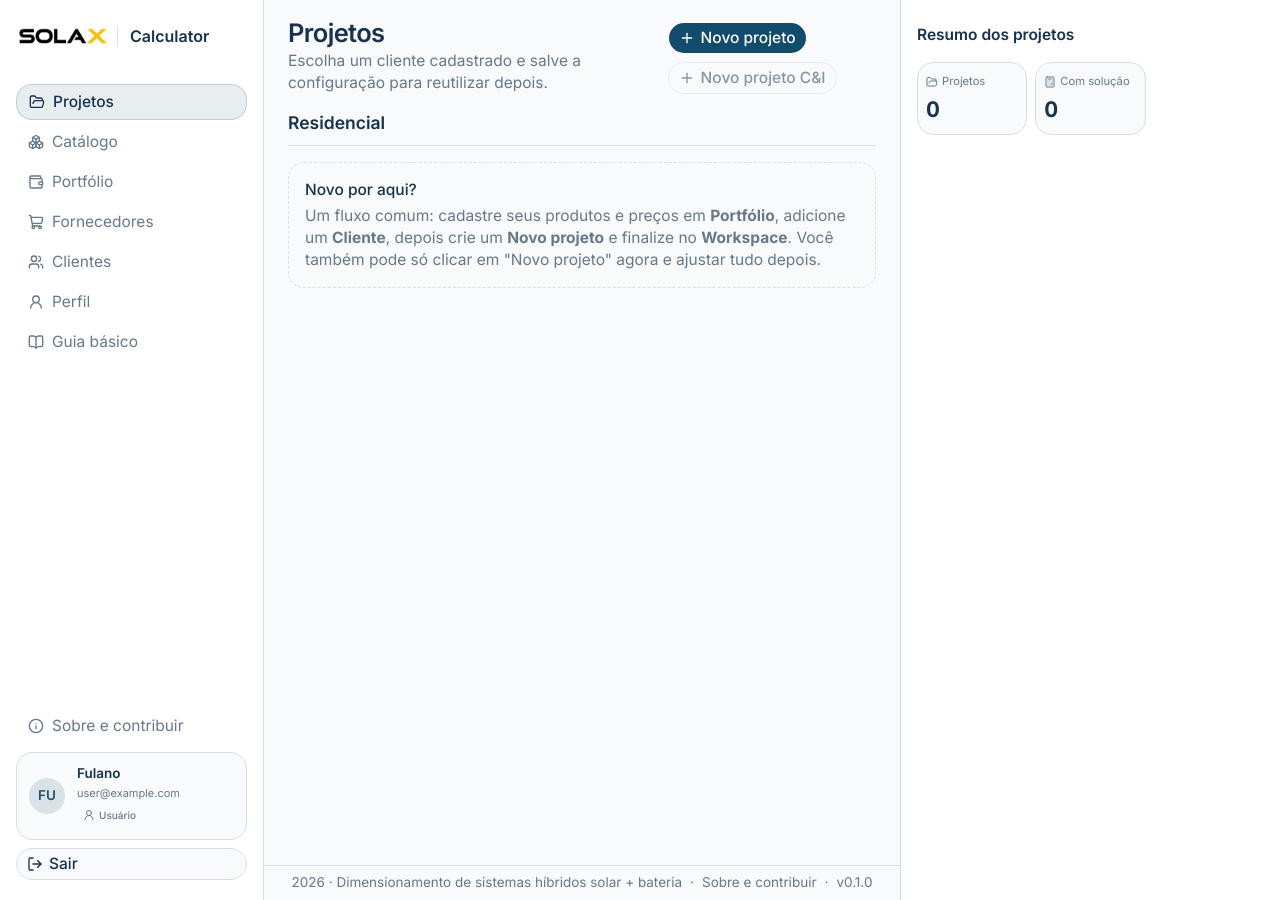
Test: SinglePageApp: unsaved profile edits › leaves Perfil once the user confirms discarding unsaved edits
Expected: the heading "Projetos" is shown, [288,17,384,48]
Click the button "Perfil" at (132, 302), box [16,284,247,320]
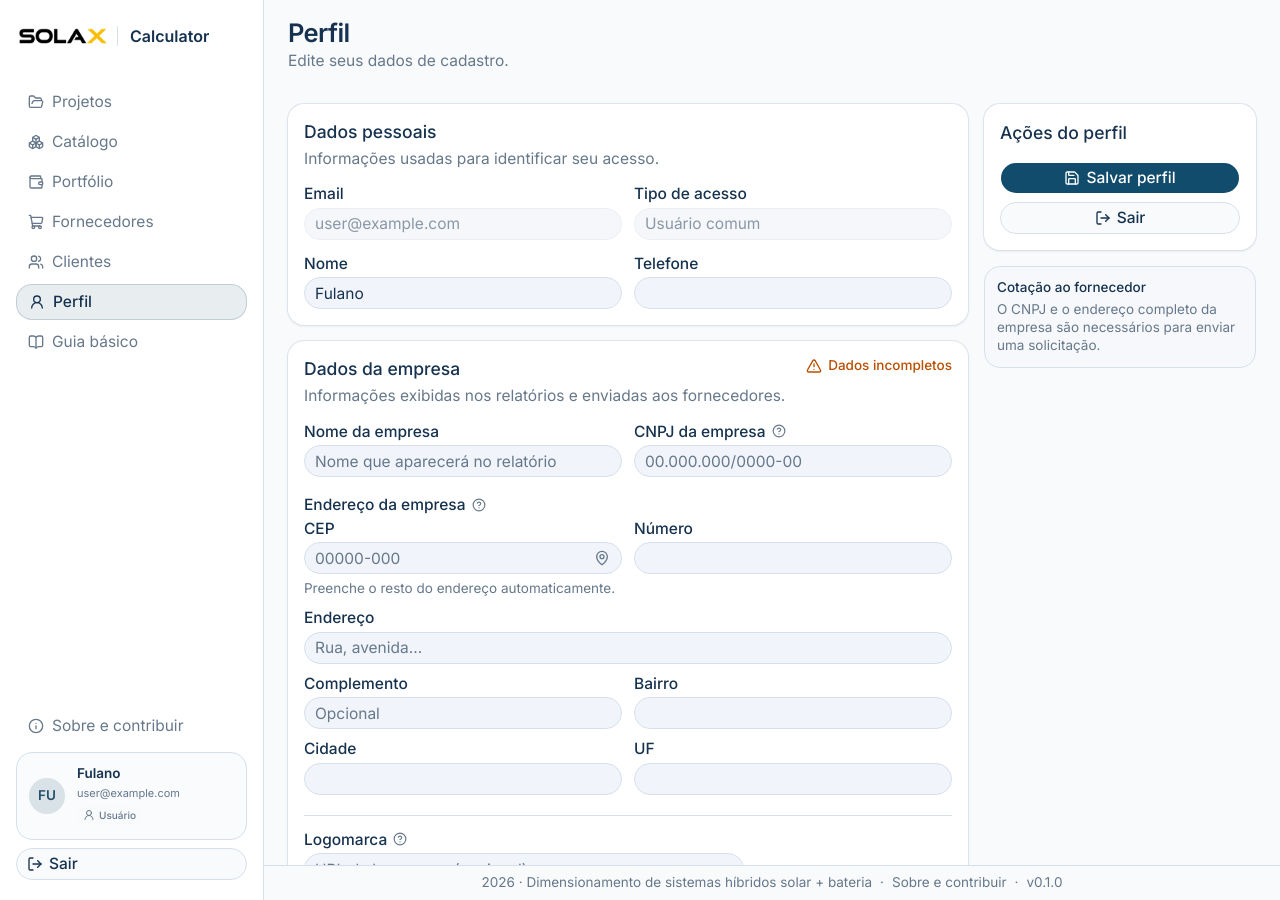
Now the field labelled "Nome" is shown
Replace the text in the field labelled "Nome" with "Nome Editado" at (463, 293), box [304,277,622,309]
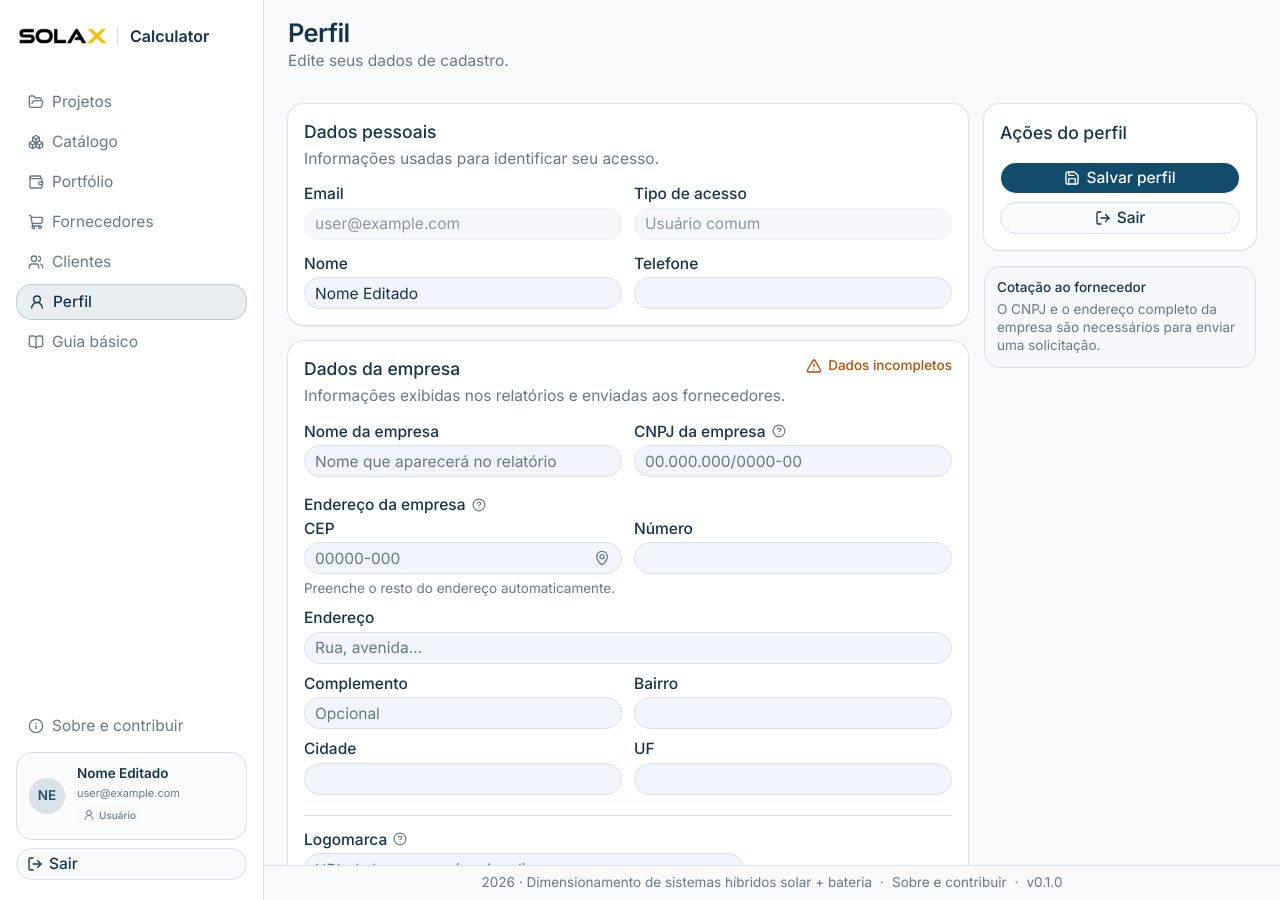
Click the button "Projetos" at (132, 102), box [16,84,247,120]
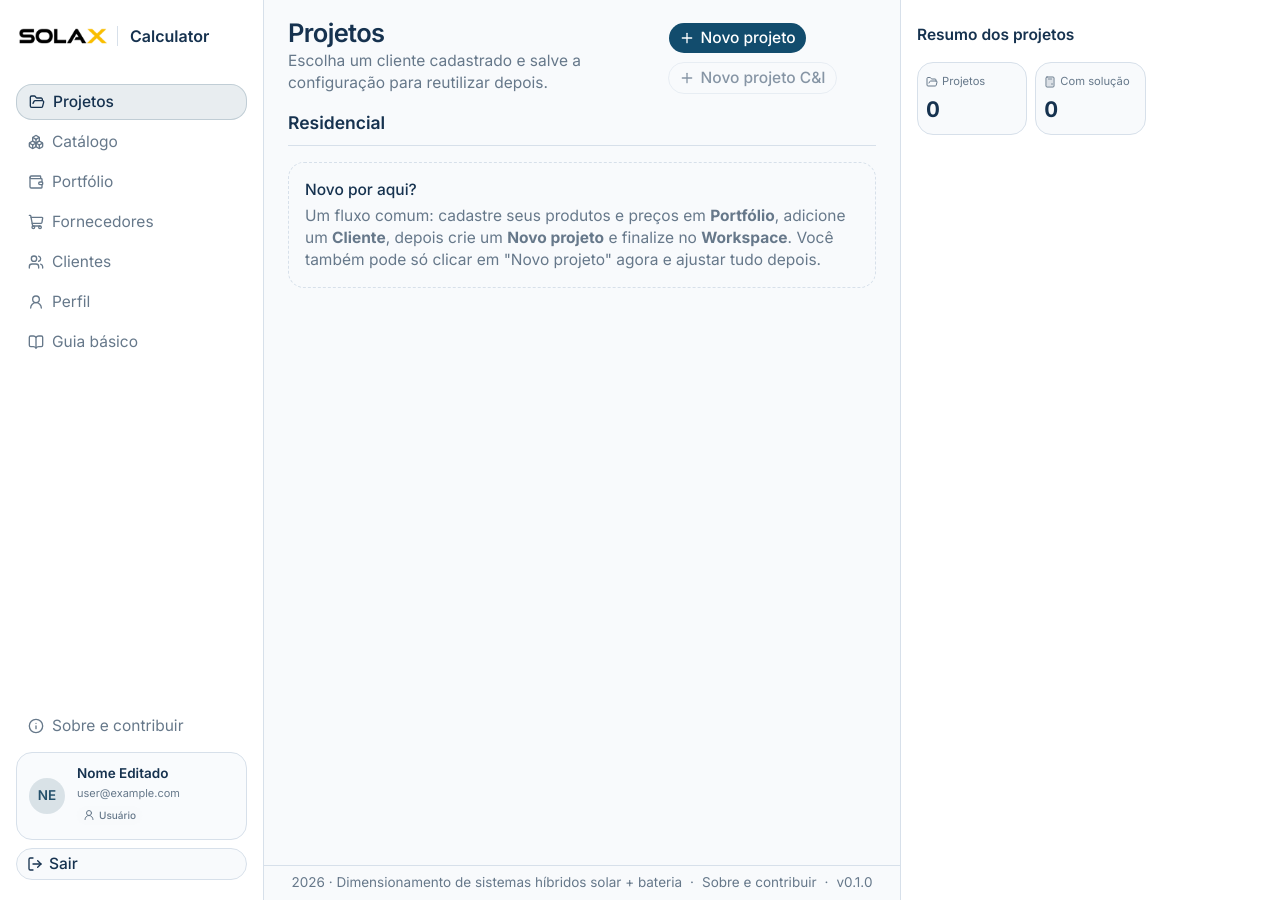
Now the heading "Projetos" is shown, box [288,17,384,48]
